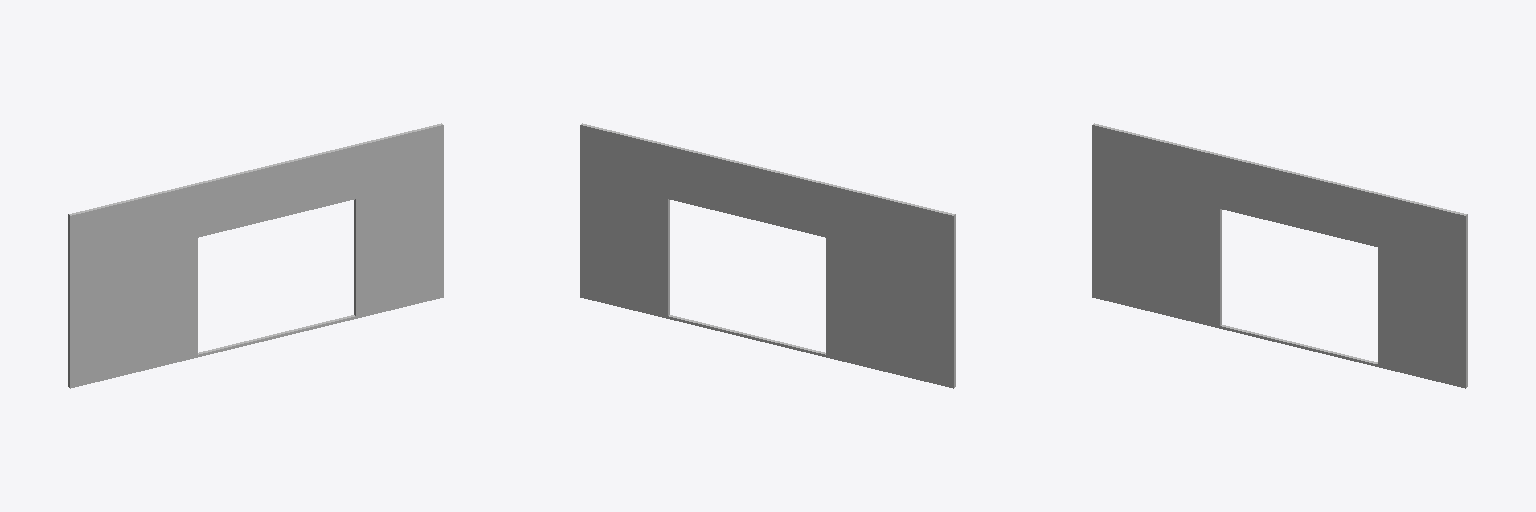
File: garden-wall.obj
3 renders of one model, left to right at view 1: azimuth 30°, elevation 25°; view 2: azimuth 150°, elevation 25°; view 3: azimuth 330°, elevation 25°, orthographic.
Visible parts, largest first — view 1: Plane.001_Plane.002; view 2: Plane.001_Plane.002; view 3: Plane.001_Plane.002.
Boxes of the visible parts, x1=… form: Plane.001_Plane.002: x1=68, y1=123, x2=443, y2=388; Plane.001_Plane.002: x1=580, y1=123, x2=955, y2=388; Plane.001_Plane.002: x1=1092, y1=123, x2=1467, y2=388.
Bounding box in the file's own units: 522 × 231 × 5.